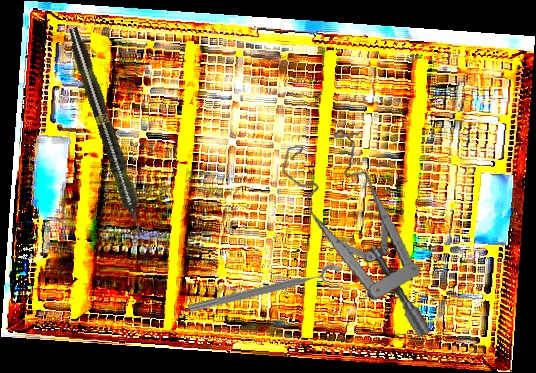Fixation Ring: (186, 262, 345, 326)
Handpiece: (63, 25, 150, 240)
Speculum: (276, 120, 434, 354)
